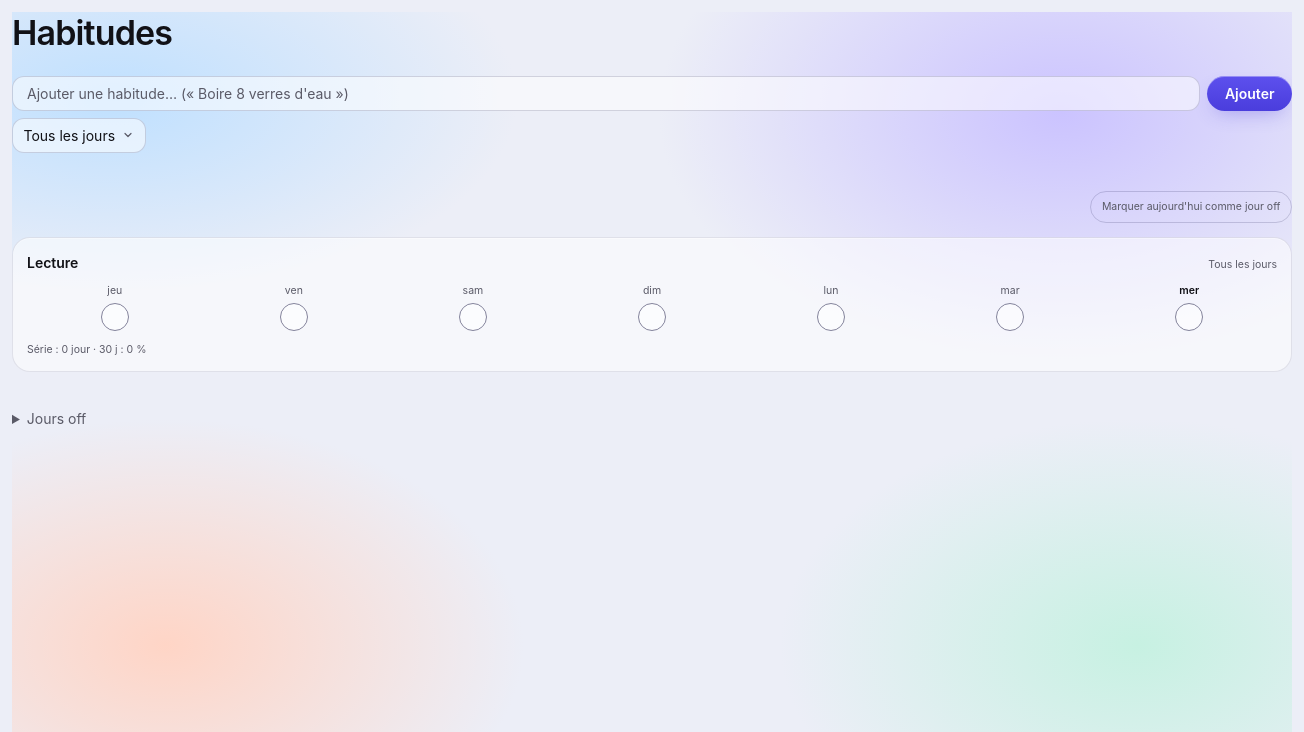
Scenario: HabitsPage › ajoute une habitude
Check: the link "Lecture" is shown, box left=27, top=252, right=78, bottom=272
Type "Sport" into the field named "Nouvelle habitude" at x=606, y=93, box left=12, top=76, right=1200, bottom=110
Then press Enter
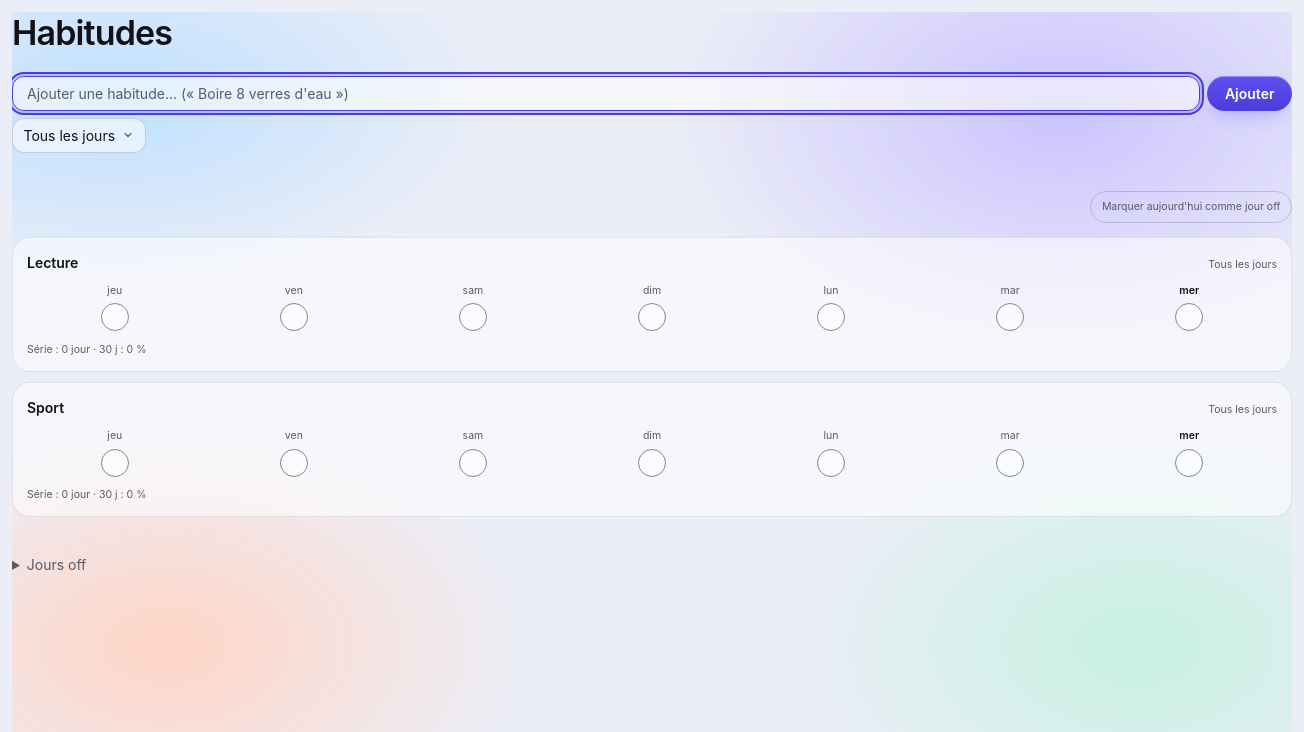
Check: the link "Sport" is shown, box left=27, top=397, right=64, bottom=418
